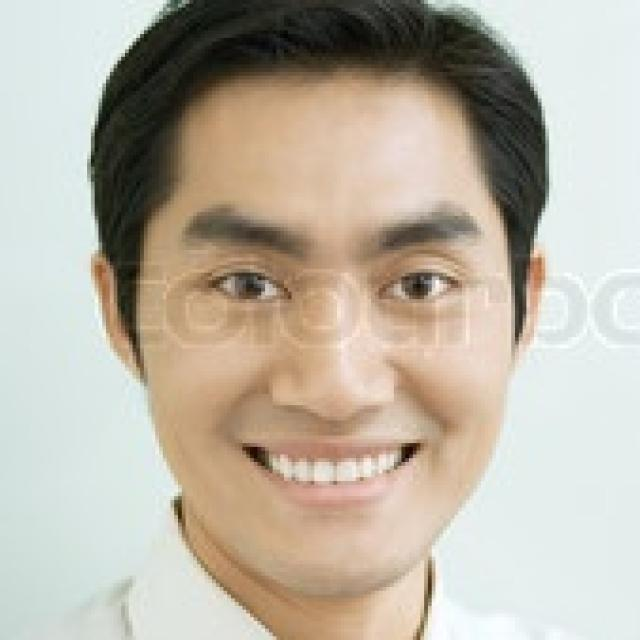Normal: (137, 89, 520, 604)
